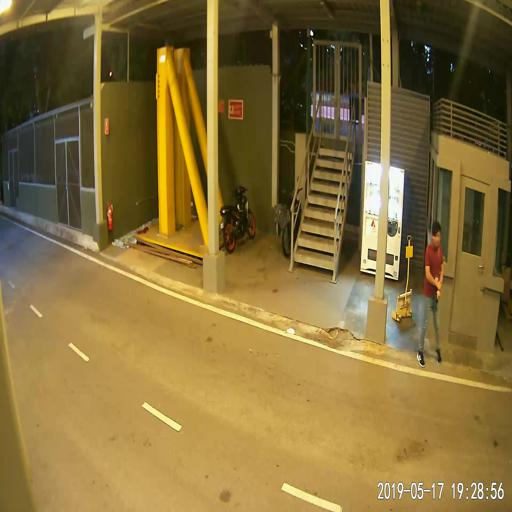pistol: (434, 290, 440, 310)
